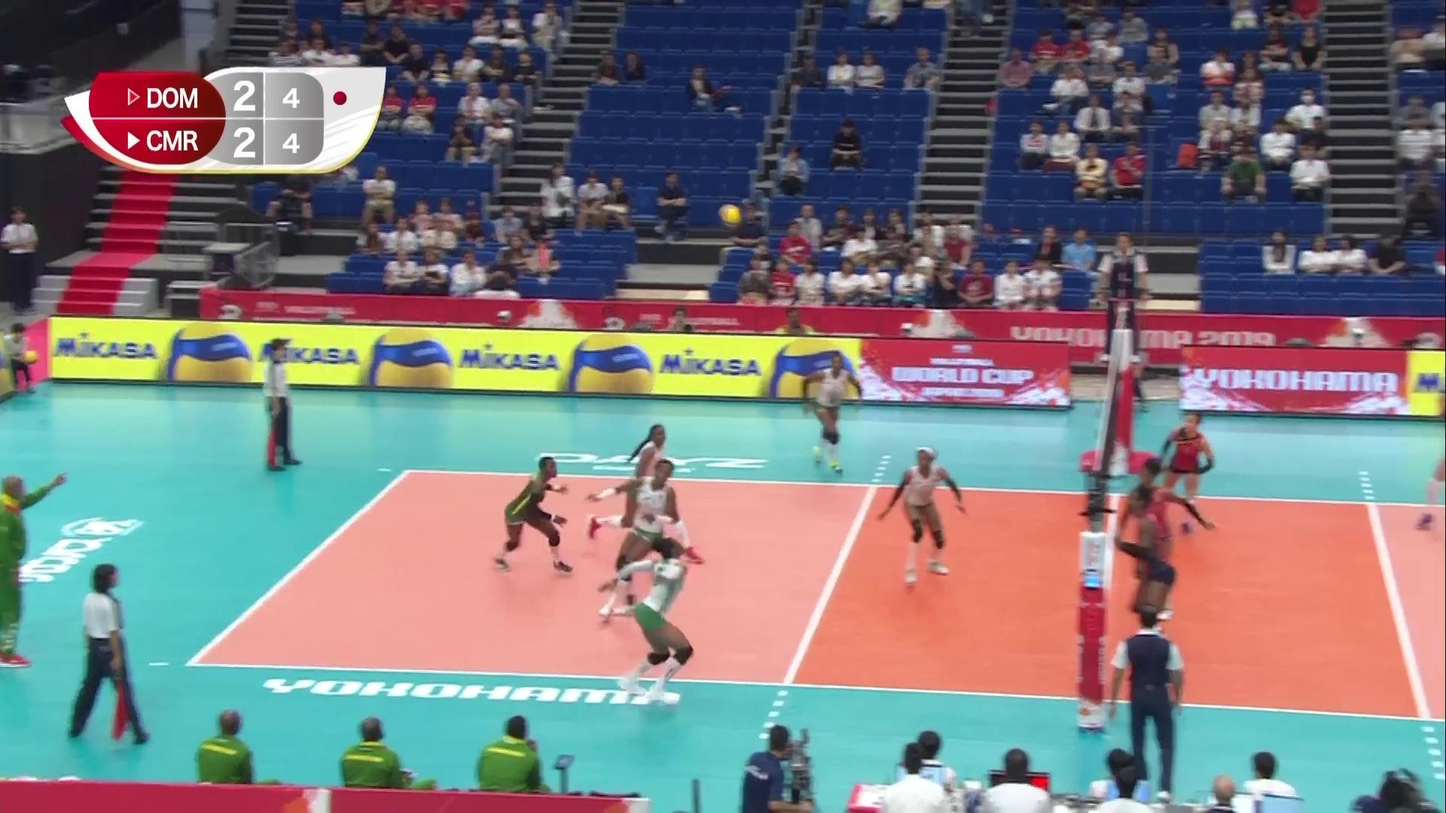player: (589, 421, 703, 565), (600, 538, 696, 705), (1125, 459, 1218, 622), (590, 460, 681, 620), (876, 446, 966, 584), (1115, 486, 1177, 686), (495, 457, 574, 574), (1152, 412, 1216, 533), (800, 354, 862, 475)
refree: (1110, 613, 1184, 798), (70, 565, 146, 743), (1097, 234, 1149, 360), (263, 338, 300, 468)
